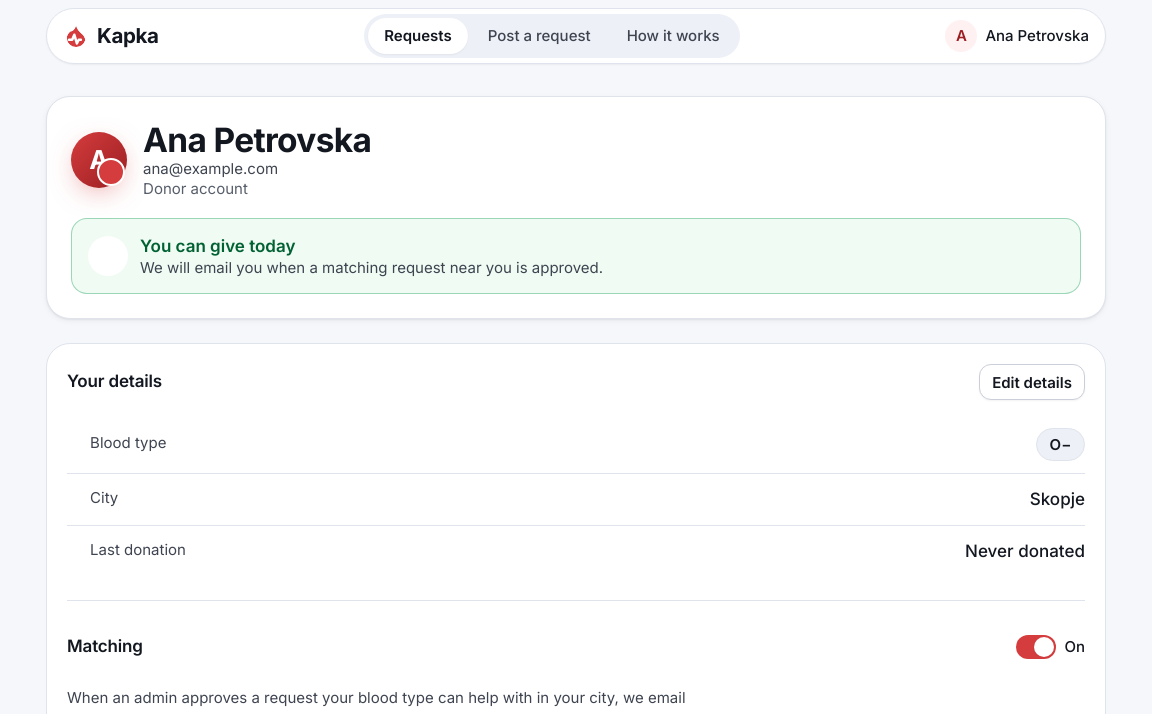
Test: the pause switch › pauses without deleting anything
Click the switch named "Email me about matching requests".
click(1051, 647)  # box 1016,625 -> 1085,669
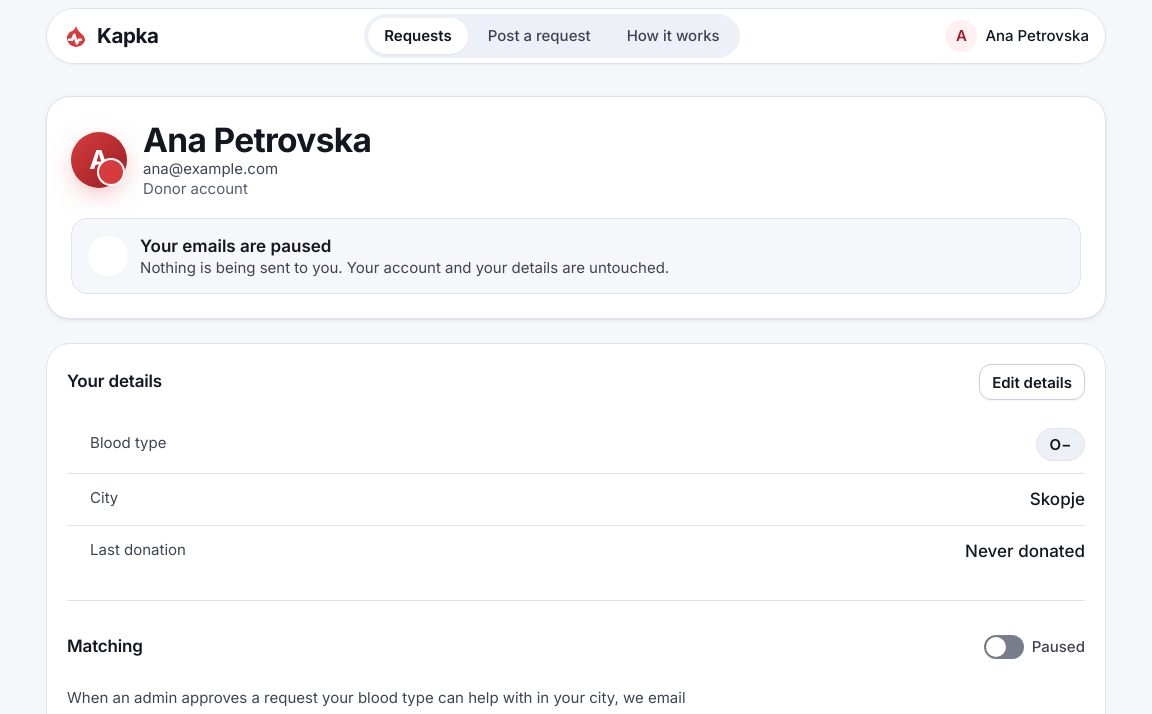
Now the text "Your emails are paused" is shown, box 140,236 -> 331,256
Now the text "account and your details are untouched" is shown, box 140,258 -> 669,276
